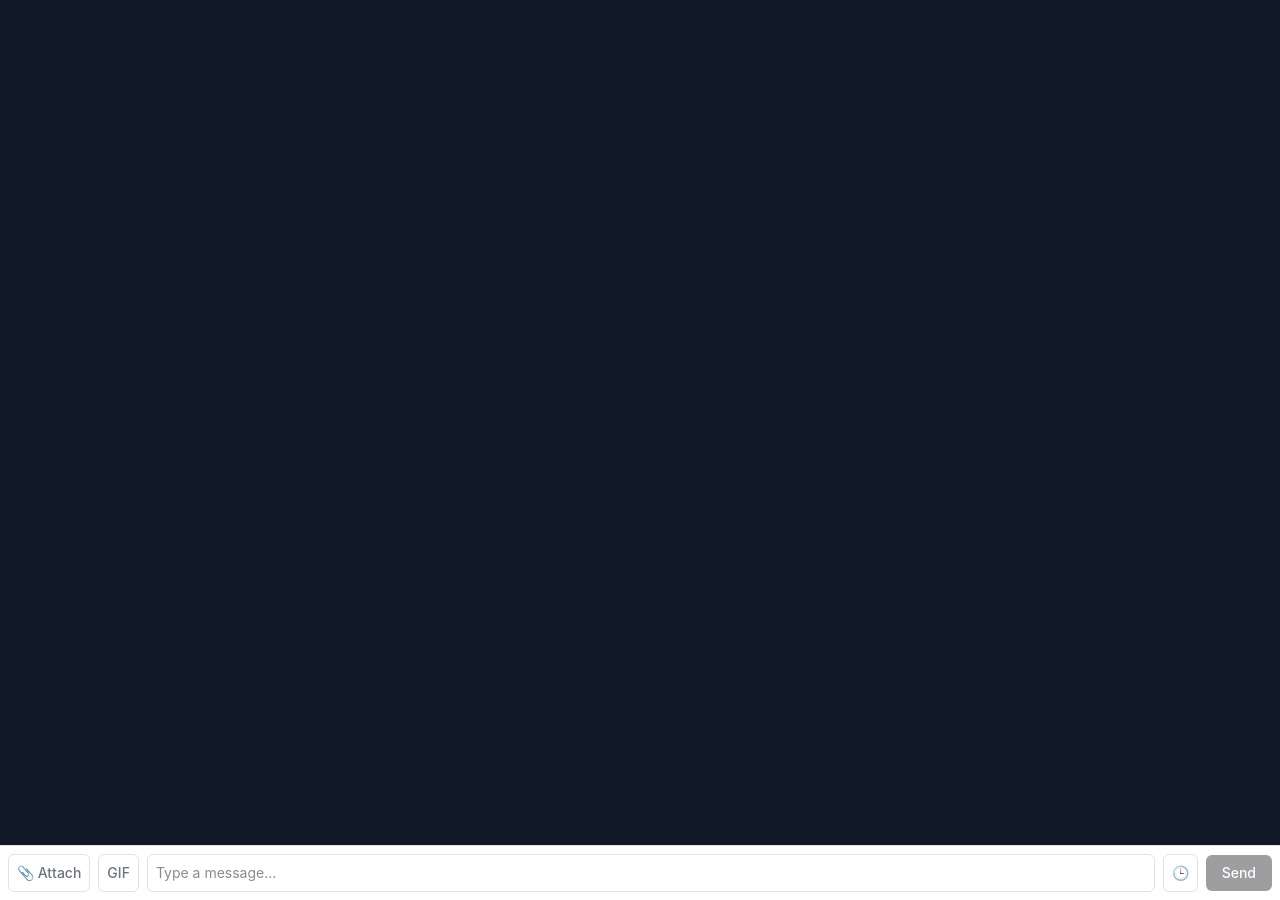
it: MessageThread › does not duplicate a message the live push echoes back after a successful send
Step 1. Type "my own message" into the text box with placeholder "Type a message..." → x=651, y=873, box [147, 854, 1155, 892]
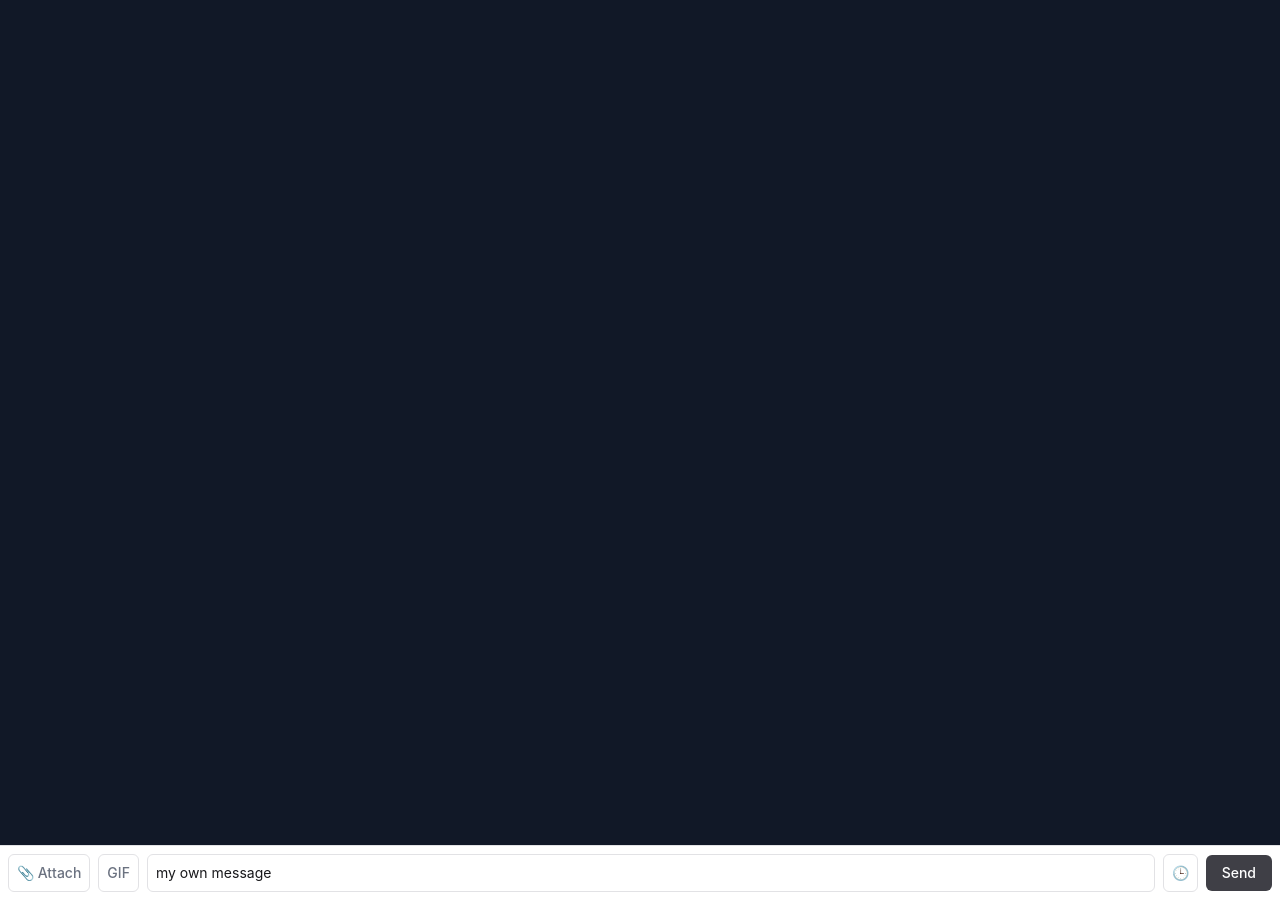
Step 2. Press Enter in the text box with placeholder "Type a message...", box [147, 854, 1155, 892]
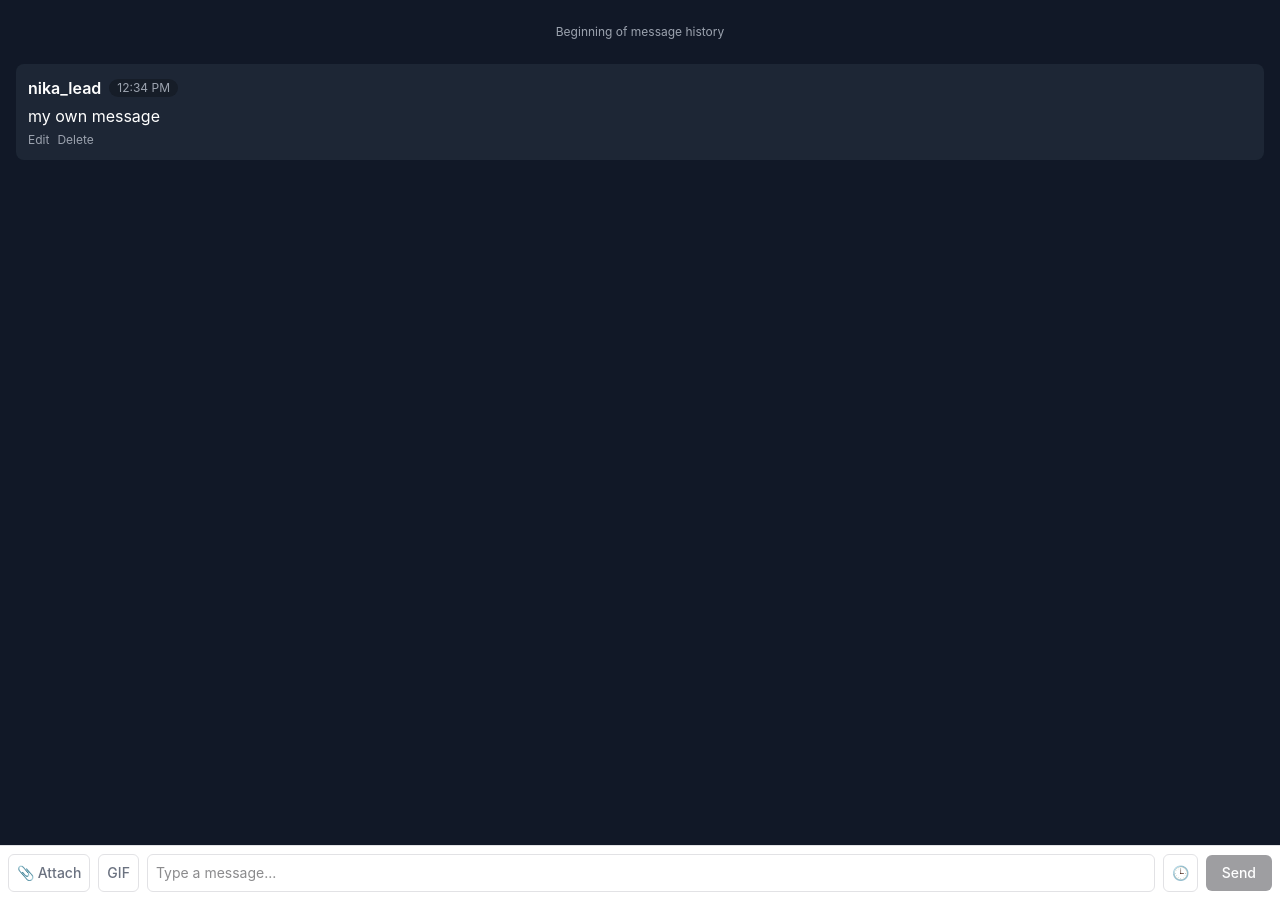
expect the text "my own message" is shown once: met, box [28, 106, 160, 126]
